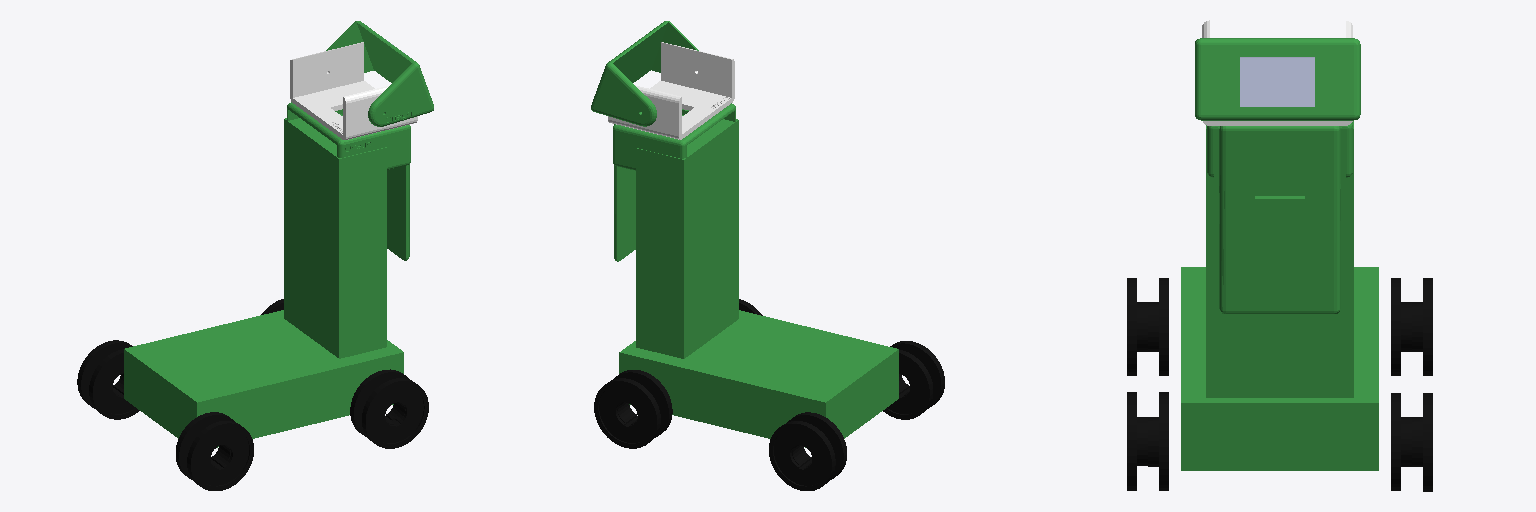
URDF robot description (jetbot):
<?xml version="1.0" encoding="utf-8"?>
<!-- This URDF was automatically created by SolidWorks to URDF Exporter! Originally created by [author] ([email redacted]) 
     Commit Version: 1.6.0-4-g7f85cfe  Build Version: 1.6.7995.38578
     For more information, please see http://wiki.ros.org/sw_urdf_exporter -->
<robot
  name="jetbot">
  <link
    name="base_link">
    <inertial>
      <origin
        xyz="0.0127440831307621 8.71327684406065E-05 -0.000319974915683446"
        rpy="0 0 0" />
      <mass
        value="0.50474037145407" />
      <inertia
        ixx="0.0001"
        ixy="0"
        ixz="0"
        iyy="0.0004"
        iyz="0"
        izz="0.0005" />
    </inertial>
    <visual>
      <origin
        xyz="0 0 0"
        rpy="0 0 0" />
      <geometry>
        <mesh
          filename="package://jetbot/meshes/base_link.STL" />
      </geometry>
      <material
        name="">
        <color
          rgba="0.286274509803922 0.662745098039216 0.329411764705882 1" />
      </material>
    </visual>
    <collision>
      <origin
        xyz="0 0 0"
        rpy="0 0 0" />
      <geometry>
        <mesh
          filename="package://jetbot/meshes/base_link.STL" />
      </geometry>
    </collision>
  </link>

  <gazebo reference="base_link">
    <mu1>200</mu1>
    <mu2>200</mu2>
    <kp>1000000</kp>
    <kd>1</kd>
  </gazebo>

  <link
    name="derecha_arriba_link">
    <inertial>
      <origin
        xyz="-8.0349E-06 7.461E-05 0.0083"
        rpy="0 0 0" />
      <mass
        value="0.008712" />
      <inertia
        ixx="9.339E-03"
        ixy="-3.12E-6"
        ixz="1.690E-5"
        iyy="0"
        iyz="0"
        izz="1.806E-06" />
    </inertial>
    <visual>
      <origin
        xyz="0 0 0"
        rpy="0 0 0" />
      <geometry>
        <mesh
          filename="package://jetbot/meshes/derecha_arriba_link.STL" />
      </geometry>
      <material
        name="">
        <color
          rgba="0.101960784313725 0.101960784313725 0.101960784313725 1" />
      </material>
    </visual>
    <collision>
      <origin
        xyz="0 0 0"
        rpy="0 0 0" />
      <geometry>
        <mesh
          filename="package://jetbot/meshes/derecha_arriba_link.STL" />
      </geometry>
    </collision>
  </link>
  <joint
    name="derecha_arriba_joint"
    type="continuous">
    <origin
      xyz="0.048098 -0.061627 -0.024956"
      rpy="-1.5708 -0.22688 0" />
    <parent
      link="base_link" />
    <child
      link="derecha_arriba_link" />
    <axis
      xyz="0 0 1" />
    <limit
      effort="100"
      velocity="100" />
    <dynamics
      damping="0.1"
      friction="0.1" />
  </joint>

  <gazebo reference="derecha_arriba_link">
    <mu1>200</mu1>
    <mu2>200</mu2>
    <kp>1000000</kp>
    <kd>1</kd>
  </gazebo>

  <link
    name="derecha_abajo_link">
    <inertial>
      <origin
        xyz="0 -0.000347478415716737 0.00735438596528001"
        rpy="0 0 0" />
      <mass
        value="0.0871203991688674" />
      <inertia
        ixx="9.3384E-04"
        ixy="0"
        ixz="0"
        iyy="9.3685E-04"
        iyz="0"
        izz="1.806E-03" />
    </inertial>
    <visual>
      <origin
        xyz="0 0 0"
        rpy="0 0 0" />
      <geometry>
        <mesh
          filename="package://jetbot/meshes/derecha_abajo_link.STL" />
      </geometry>
      <material
        name="">
        <color
          rgba="0.101960784313725 0.101960784313725 0.101960784313725 1" />
      </material>
    </visual>
    <collision>
      <origin
        xyz="0 0 0"
        rpy="0 0 0" />
      <geometry>
        <mesh
          filename="package://jetbot/meshes/derecha_abajo_link.STL" />
      </geometry>
    </collision>
  </link>
  <joint
    name="derecha_abajo_joint"
    type="continuous">
    <origin
      xyz="-0.061638 -0.060627 -0.024684"
      rpy="1.5708 0 3.1416" />
    <parent
      link="base_link" />
    <child
      link="derecha_abajo_link" />
    <axis
      xyz="0 0 1" />
    <limit
      effort="100"
      velocity="100" />
    <dynamics
      damping="0.1"
      friction="0.1" />
  </joint>

  <gazebo reference="derecha_abajo_link">
    <mu1>200</mu1>
    <mu2>200</mu2>
    <kp>1000000</kp>
    <kd>1</kd>
  </gazebo>

  <link
    name="izquierda_arriba_link">
    <inertial>
      <origin
        xyz="0 0.000347478415716751 0.00735438596527999"
        rpy="0 0 0" />
      <mass
        value="0.0087120399168867" />
      <inertia
        ixx="9.338E-03"
        ixy="0"
        ixz="0"
        iyy="9.368E-03"
        iyz="0"
        izz="1.806E-03" />
    </inertial>
    <visual>
      <origin
        xyz="0 0 0"
        rpy="0 0 0" />
      <geometry>
        <mesh
          filename="package://jetbot/meshes/izquierda_arriba_link.STL" />
      </geometry>
      <material
        name="">
        <color
          rgba="0.101960784313725 0.101960784313725 0.101960784313725 1" />
      </material>
    </visual>
    <collision>
      <origin
        xyz="0 0 0"
        rpy="0 0 0" />
      <geometry>
        <mesh
          filename="package://jetbot/meshes/izquierda_arriba_link.STL" />
      </geometry>
    </collision>
  </link>
  <joint
    name="izquierda_arriba_joint"
    type="continuous">
    <origin
      xyz="0.04845 0.060786 -0.024684"
      rpy="-1.5708 0 3.1416" />
    <parent
      link="base_link" />
    <child
      link="izquierda_arriba_link" />
    <axis
      xyz="0 0 1" />
    <limit
      effort="100"
      velocity="100" />
    <dynamics
      damping="0.1"
      friction="0.1" />
  </joint>

  <gazebo reference="izquierda_arriba_link">
    <mu1>200</mu1>
    <mu2>200</mu2>
    <kp>1000000</kp>
    <kd>1</kd>
  </gazebo>

  <link
    name="izquierda_abajo_link">
    <inertial>
      <origin
        xyz="0 0.000347478415716751 0.00735438596527993"
        rpy="0 0 0" />
      <mass
        value="0.0087120399168867" />
      <inertia
        ixx="9.338E-04"
        ixy="0"
        ixz="0"
        iyy="9.368E-04"
        iyz="0"
        izz="1.806E-03" />
    </inertial>
    <visual>
      <origin
        xyz="0 0 0"
        rpy="0 0 0" />
      <geometry>
        <mesh
          filename="package://jetbot/meshes/izquierda_abajo_link.STL" />
      </geometry>
      <material
        name="">
        <color
          rgba="0.101960784313725 0.101960784313725 0.101960784313725 1" />
      </material>
    </visual>
    <collision>
      <origin
        xyz="0 0 0"
        rpy="0 0 0" />
      <geometry>
        <mesh
          filename="package://jetbot/meshes/izquierda_abajo_link.STL" />
      </geometry>
    </collision>
  </link>
  <joint
    name="izquierda_abajo_joint"
    type="continuous">
    <origin
      xyz="-0.061638 0.060786 -0.024684"
      rpy="-1.5708 0 3.1416" />
    <parent
      link="base_link" />
    <child
      link="izquierda_abajo_link" />
    <axis
      xyz="0 0 1" />
    <limit
      effort="100"
      velocity="100" />
    <dynamics
      damping="0.1"
      friction="0.1" />
  </joint>

  <gazebo reference="izquierda_abajo_link">
    <mu1>200</mu1>
    <mu2>200</mu2>
    <kp>1000000</kp>
    <kd>1</kd>
  </gazebo>

  <link
    name="subir_link">
    <inertial>
      <origin
        xyz="0.0112360433284504 -1.86777337999045E-05 0.0218014538142358"
        rpy="0 0 0" />
      <mass
        value="0.0273" />
      <inertia
        ixx="2.84948E-02"
        ixy="1.10924E-05"
        ixz="0"
        iyy="2.4445E-02"
        iyz="9.6244E-05"
        izz="1.688E-02" />
    </inertial>
    <visual>
      <origin
        xyz="0 0 0"
        rpy="0 0 0" />
      <geometry>
        <mesh
          filename="package://jetbot/meshes/subir_link.STL" />
      </geometry>
      <material
        name="">
        <color
          rgba="0.286274509803922 0.662745098039216 0.329411764705882 1" />
      </material>
    </visual>
    <collision>
      <origin
        xyz="0 0 0"
        rpy="0 0 0" />
      <geometry>
        <mesh
          filename="package://jetbot/meshes/subir_link.STL" />
      </geometry>
    </collision>
  </link>

  <gazebo reference="subir_link">
    <mu1>0.1</mu1>
    <mu2>0.1</mu2>
    <kp>1000000</kp>
    <kd>1</kd>
  </gazebo>

  <joint
    name="subir_joint"
    type="prismatic">
    <origin
      xyz="0.075406 7.7147E-05 0.083651"
      rpy="0 0 3.1416" />
    <parent
      link="base_link" />
    <child
      link="subir_link" />
    <axis
      xyz="0 0 1" />
    <limit
      lower="-0.045"
      upper="0"
      effort="100"
      velocity="100" />
    <dynamics
      damping="0.1"
      friction="0.1" />
  </joint>
  <link
    name="cuello_link">
    <inertial>
      <origin
        xyz="0.00025 0.00024 0.0043"
        rpy="0 0 0" />
      <mass
        value="0.0152" />
      <inertia
        ixx="9.531E-03"
        ixy="6.452E-05"
        ixz="0"
        iyy="3.616E-03"
        iyz="0"
        izz="1.133E-02" />
    </inertial>
    <visual>
      <origin
        xyz="0 0 0"
        rpy="0 0 0" />
      <geometry>
        <mesh
          filename="package://jetbot/meshes/cuello_link.STL" />
      </geometry>
      <material
        name="">
        <color
          rgba="1 1 1 1" />
      </material>
    </visual>
    <collision>
      <origin
        xyz="0 0 0"
        rpy="0 0 0" />
      <geometry>
        <mesh
          filename="package://jetbot/meshes/cuello_link.STL" />
      </geometry>
    </collision>
  </link>
  <joint
    name="cuello_joint"
    type="revolute">
    <origin
      xyz="0.0192 0.0007 0.0493"
      rpy="0 0 0" />
    <parent
      link="subir_link" />
    <child
      link="cuello_link" />
    <axis
      xyz="0 0 1" />
    <limit
      lower="-1.5708"
      upper="1.5708" 
      effort="100"
      velocity="100" />
    <dynamics
      damping="0.1"
      friction="0.1" />
  </joint>

  <gazebo reference="cuello_link">
    <mu1>0.1</mu1>
    <mu2>0.1</mu2>
    <kp>1000000</kp>
    <kd>1</kd>
    <material>Gazebo/Yellow</material>
  </gazebo>

  <link
    name="cabeza_link">
    <inertial>
      <origin
        xyz="0.02 -0.00698 0.0320"
        rpy="0 0 0" />
      <mass
        value="0.0127" />
      <inertia
        ixx="9.03564E-03"
        ixy="9.56752-05"
        ixz="6.61592E-06"
        iyy="9.28229E-03"
        iyz="0"
        izz="2.15950E-03" />
    </inertial>
    <visual>
      <origin
        xyz="0 0 0"
        rpy="0 0 0" />
      <geometry>
        <mesh
          filename="package://jetbot/meshes/cabeza_link.STL" />
      </geometry>
      <material
        name="">
        <color
          rgba="0.286274509803922 0.662745098039216 0.329411764705882 1" />
      </material>
    </visual>
    <collision>
      <origin
        xyz="0 0 0"
        rpy="0 0 0" />
      <geometry>
        <mesh
          filename="package://jetbot/meshes/cabeza_link.STL" />
      </geometry>
    </collision>
  </link>

  <gazebo reference="cabeza_link">
    <mu1>0.1</mu1>
    <mu2>0.1</mu2>
    <kp>1000000</kp>
    <kd>1</kd>
    <material>Gazebo/Yellow</material>
  </gazebo>

  <joint
    name="cabeza_joint"
    type="revolute">
    <origin
      xyz="0.00027 0.032264 0.010211"
      rpy="-1.5708 0 -3.1416" />
    <parent
      link="cuello_link" />
    <child
      link="cabeza_link" />
    <axis
      xyz="0 0 1" />
    <limit
      lower="-1.6"
      upper="0.5" 
      effort="100"
      velocity="100" />
    <dynamics
      damping="0.1"
      friction="0.1" />
  </joint>
  <link
    name="camera_link">
    <inertial>
      <origin
        xyz="0 0 -0.0014"
        rpy="0 0 0" />
      <mass
        value="0.0018" />
      <inertia
        ixx="6.135E-03"
        ixy="0"
        ixz="0"
        iyy="1.3635E-03"
        iyz="0"
        izz="1.95E-03" />
    </inertial>
    <visual>
      <origin
        xyz="0 0 0"
        rpy="0 0 0" />
      <geometry>
        <mesh
          filename="package://jetbot/meshes/camera_link.STL" />
      </geometry>
      <material
        name="">
        <color
          rgba="0.792156862745098 0.819607843137255 0.933333333333333 1" />
      </material>
    </visual>
    <collision>
      <origin
        xyz="0 0 0"
        rpy="0 0 0" />
      <geometry>
        <mesh
          filename="package://jetbot/meshes/camera_link.STL" />
      </geometry>
    </collision>
  </link>
  <joint
    name="camera_joint"
    type="fixed">
    <origin
      xyz="0.030723 -0.0098391 0.032"
      rpy="0.33531 1.5708 0" />
    <parent
      link="cabeza_link" />
    <child
      link="camera_link" />
    <axis
      xyz="0 0 0" />
    </joint>

    


    <joint name="camera_optical_joint" type="fixed">
        <parent link="camera_link"/>
        <child link="camera_link_optical"/>
        <origin xyz="1 1 1" rpy="0.3 0.3 0.3"/>
    </joint>

    <link name="camera_link_optical"></link>

    <gazebo reference="camera_link">
        <material>Gazebo/Red</material>

        <sensor name="camera" type="camera">
            <pose> 1 1 1 1 1 1 </pose>
            <visualize>true</visualize>
            <update_rate>10</update_rate>
            <camera>
                <horizontal_fov>1.399</horizontal_fov>
                <image>
                    <format>R8G8B8</format>
                    <width>640</width>
                    <height>480</height>
                </image>
                <clip>
                    <near>0.05</near>
                    <far>300</far>
                </clip>
            </camera>
            <plugin name="camera_controller" filename="libgazebo_ros_camera.so">
                <frame_name>camera_link_optical</frame_name>
            </plugin>
        </sensor>
    </gazebo>

  <gazebo>
        <plugin name="diff_drive" filename="libgazebo_ros_diff_drive.so">

            <!-- Wheel Information -->
            <left_joint>izquierda_arriba_link</left_joint>
            <right_joint>derecha_arriba_link</right_joint>
            <wheel_separation>0.115154295</wheel_separation>
            <wheel_diameter>0.1</wheel_diameter>


            <!-- Limits -->
            <max_wheel_torque>500</max_wheel_torque>
            <max_wheel_acceleration>80.0</max_wheel_acceleration>

            
            <!-- Output -->
            <odometry_frame>odom</odometry_frame>
            <robot_base_frame>base_link</robot_base_frame>

            <publish_odom>true</publish_odom>
            <publish_odom_tf>true</publish_odom_tf>
            <publish_wheel_tf>true</publish_wheel_tf>

        </plugin>
    </gazebo>

</robot>

--- Facts derived from the render (not from the file) ---
3 views of the same robot in one strip: view 1: azimuth 30°, elevation 25°; view 2: azimuth 150°, elevation 25°; view 3: azimuth 270°, elevation 25° (orthographic).
Robot: jetbot — 10 links, 9 joints (2 revolute, 4 continuous, 1 prismatic, 2 fixed); root link base_link; default pose: every joint at zero.
Visible links, largest first — view 1: base_link, cuello_link, derecha_arriba_link, derecha_abajo_link, cabeza_link, subir_link, izquierda_abajo_link; view 2: base_link, cuello_link, izquierda_arriba_link, izquierda_abajo_link, cabeza_link, subir_link, derecha_abajo_link; view 3: base_link, subir_link, cabeza_link, camera_link, izquierda_arriba_link, derecha_arriba_link, derecha_abajo_link, izquierda_abajo_link, cuello_link.
Link boxes in pixels (bbox=[...]): base_link: bbox=[124, 114, 403, 447]; cuello_link: bbox=[290, 42, 417, 139]; derecha_arriba_link: bbox=[350, 369, 428, 448]; derecha_abajo_link: bbox=[176, 412, 253, 490]; cabeza_link: bbox=[326, 21, 433, 126]; subir_link: bbox=[287, 102, 410, 260]; izquierda_abajo_link: bbox=[77, 340, 139, 419]; base_link: bbox=[619, 115, 898, 447]; cuello_link: bbox=[608, 42, 734, 139]; izquierda_arriba_link: bbox=[594, 370, 672, 448]; izquierda_abajo_link: bbox=[769, 412, 846, 490]; cabeza_link: bbox=[591, 21, 698, 126]; subir_link: bbox=[613, 103, 735, 261]; derecha_abajo_link: bbox=[883, 341, 944, 419]; base_link: bbox=[1181, 121, 1378, 470]; subir_link: bbox=[1207, 122, 1352, 313]; cabeza_link: bbox=[1195, 38, 1360, 120]; camera_link: bbox=[1240, 57, 1314, 106]; izquierda_arriba_link: bbox=[1391, 393, 1432, 491]; derecha_arriba_link: bbox=[1127, 392, 1168, 490]; derecha_abajo_link: bbox=[1127, 278, 1168, 375]; izquierda_abajo_link: bbox=[1391, 278, 1432, 375]; cuello_link: bbox=[1202, 20, 1352, 125].
Bounding box of the posed robot: 0.1715 × 0.1234 × 0.2127 m (x, y, z).
9 mesh visuals loaded from 9 distinct referenced files (9 binary STL).
